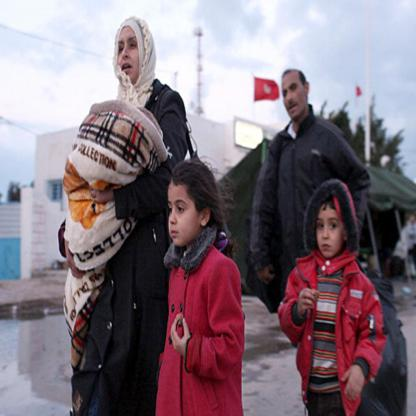face: (169, 182, 199, 247), (318, 205, 345, 259), (118, 29, 142, 86), (282, 73, 305, 124)
